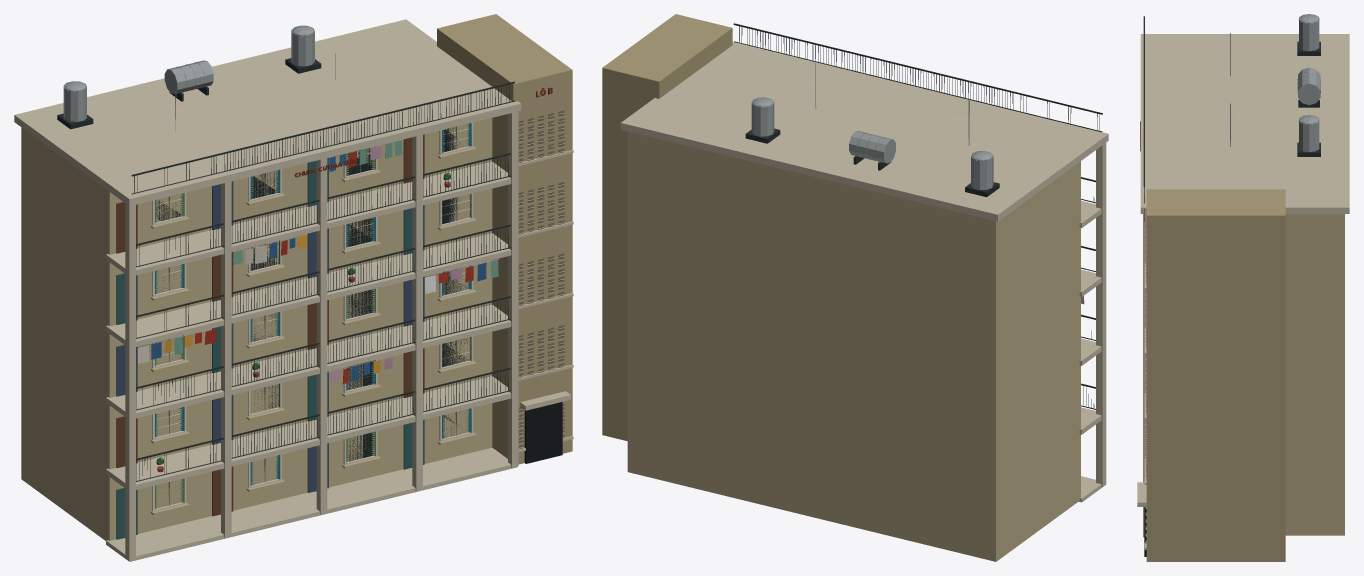
File: chung_cu.glb
3 renders of one model, left to right at view 1: azimuth 30°, elevation 25°; view 2: azimuth 150°, elevation 25°; view 3: azimuth 270°, elevation 25°, orthographic. The views are drawn at different scales.
Visible parts, largest first — view 1: chung_cu; view 2: chung_cu; view 3: chung_cu.
Boxes of the visible parts, x1=… form: chung_cu: x1=14, y1=14, x2=573, y2=561; chung_cu: x1=602, y1=14, x2=1108, y2=561; chung_cu: x1=1137, y1=14, x2=1349, y2=561.
Size of the model in its own units: 19.6 by 17.3 by 8.9.
